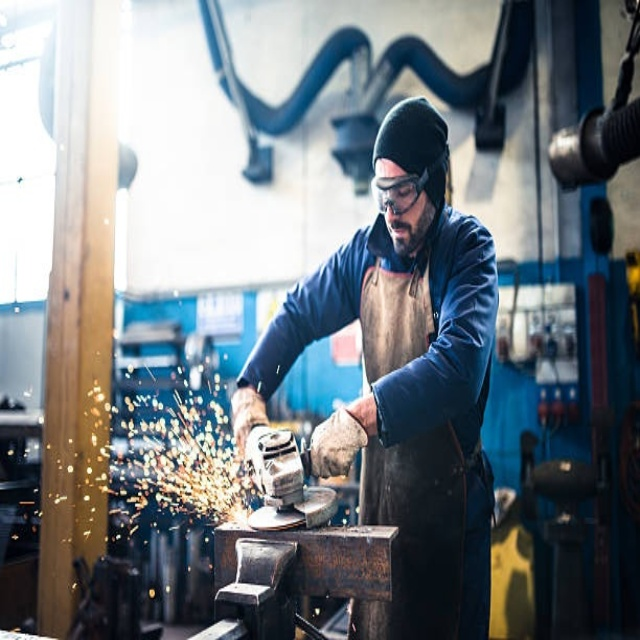Gafas: (374, 166, 433, 217)
Guantes: (309, 408, 367, 479), (230, 387, 272, 462)
Sin_mascara: (385, 218, 414, 253)
